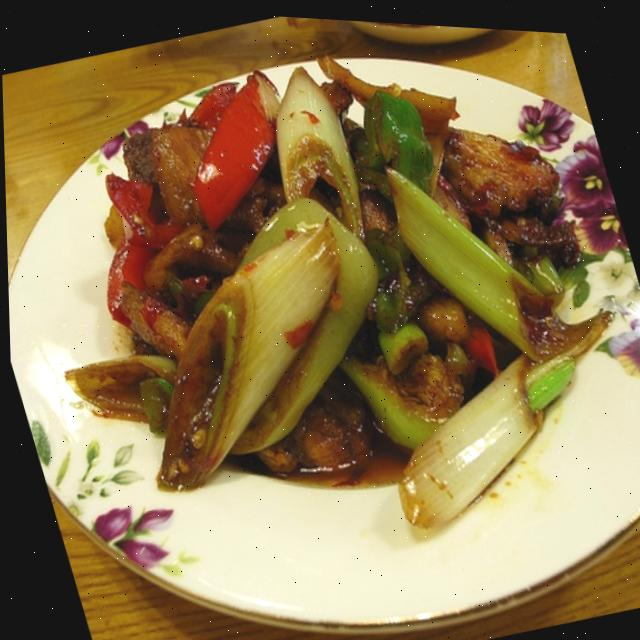猪肉菜式: (10, 6, 640, 582)
